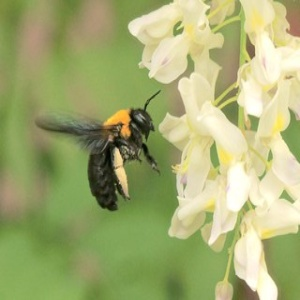bee: (32, 88, 161, 212)
